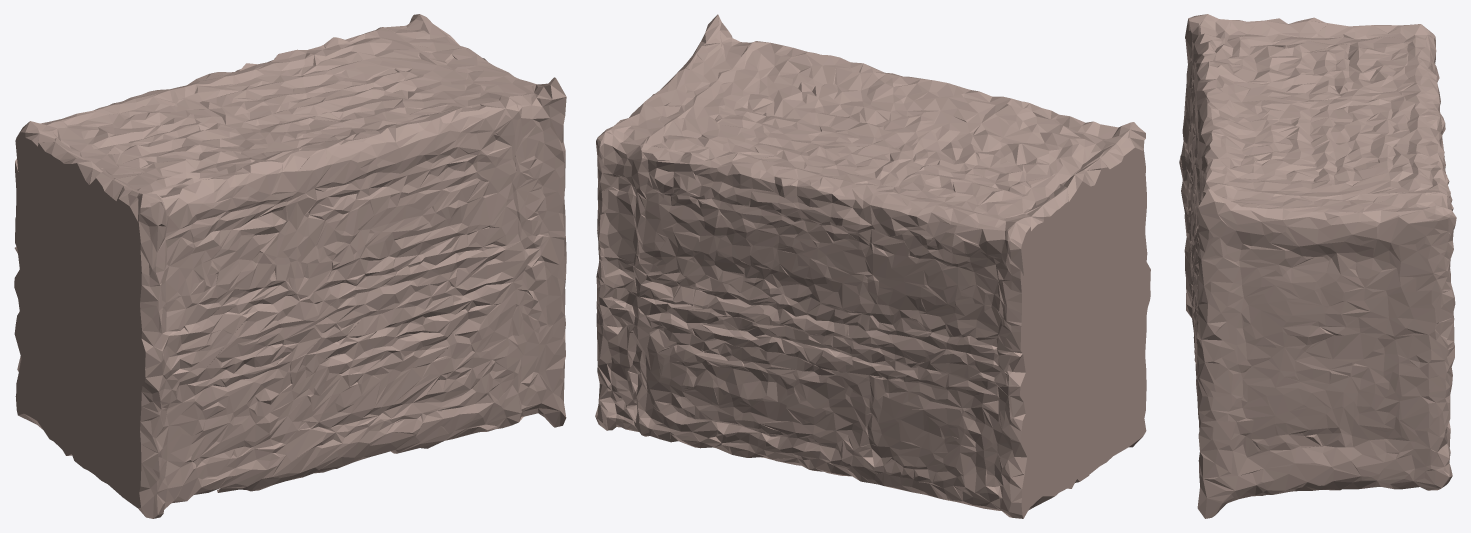
Rendered from improved.glb.
3 views of the same model, side by side, from view 1: azimuth 30°, elevation 25°; view 2: azimuth 150°, elevation 25°; view 3: azimuth 270°, elevation 25° (orthographic). The views are drawn at different scales.
Parts seen in each view (by area): view 1: world; view 2: world; view 3: world.
Part boxes in pixels (x1,y1,x2,y2): world: (14,14,566,518); world: (595,14,1150,518); world: (1179,14,1456,518).
Size of the model in its own units: 1.2 by 0.9274 by 0.7096.
